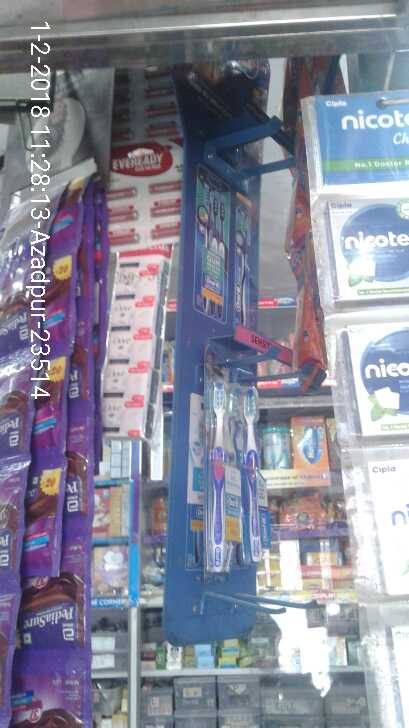oralb: (237, 377, 274, 564), (203, 376, 237, 576)
